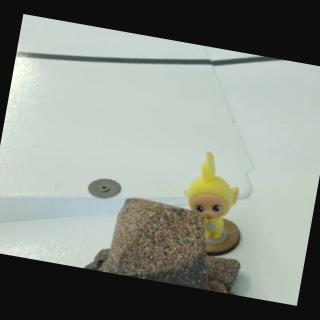teletubby: (184, 153, 239, 239)
